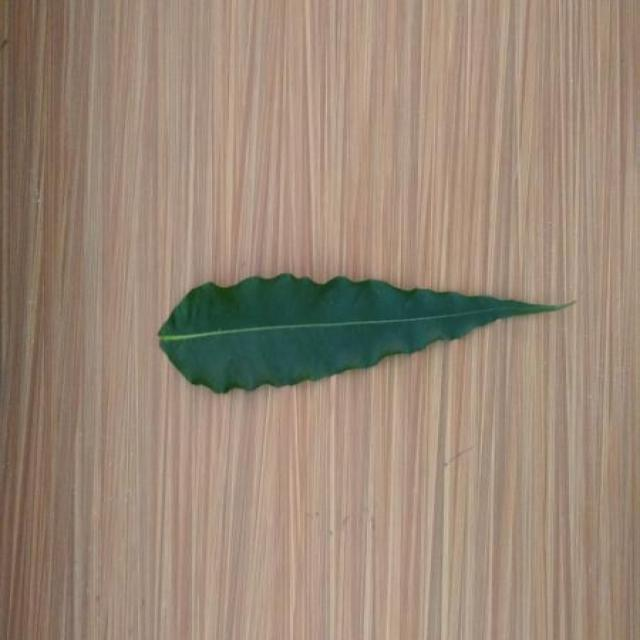ashoka: (158, 274, 572, 392)
